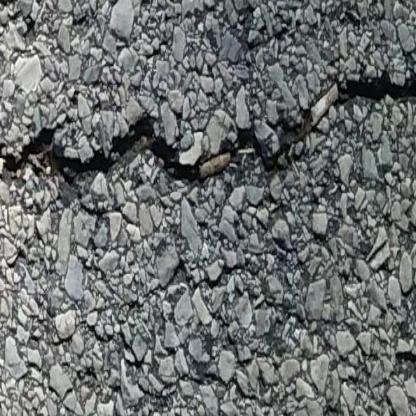Cracks: (0, 63, 416, 225)
